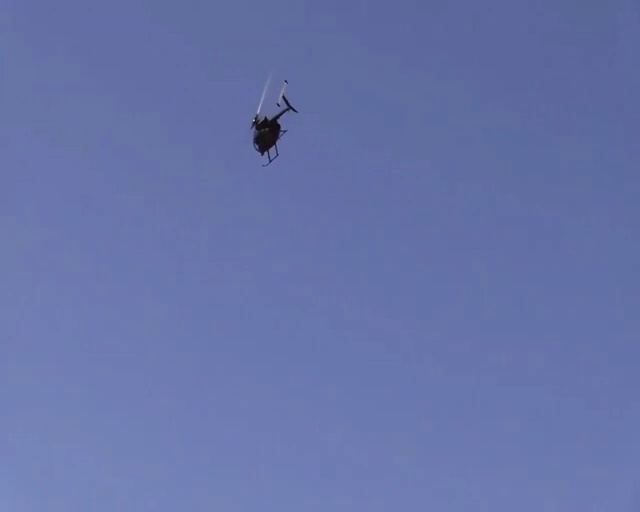HELICOPTER: (247, 73, 298, 167)
